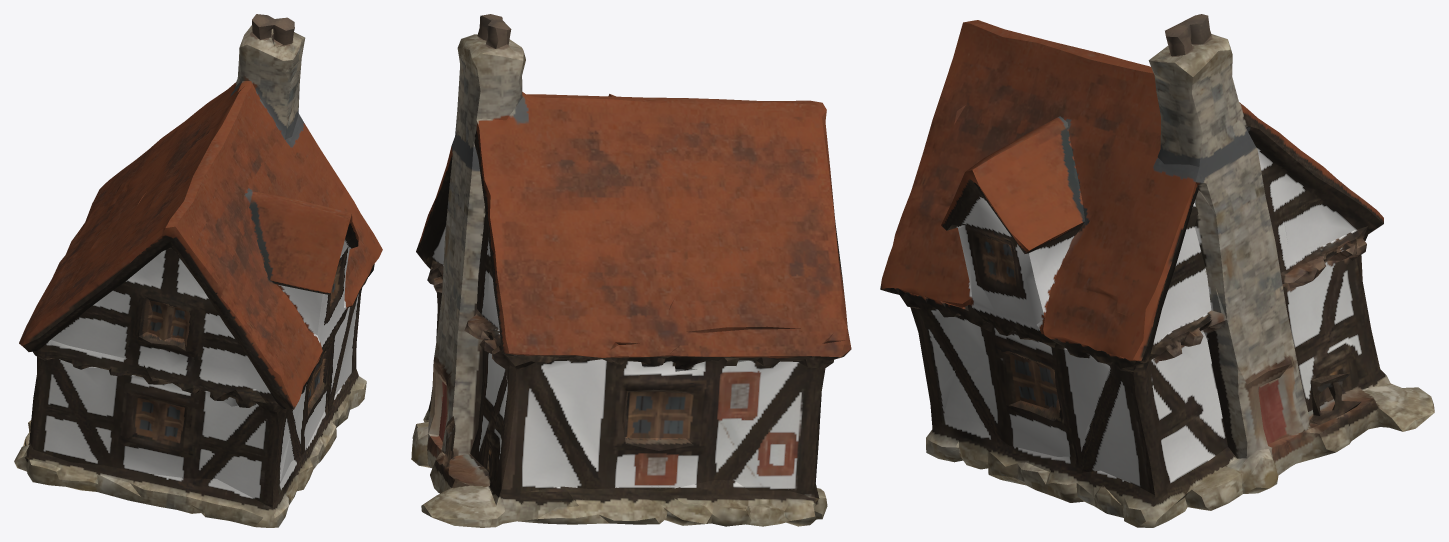
The model's file is house.glb.
3 renders of one model, left to right at view 1: azimuth 30°, elevation 25°; view 2: azimuth 150°, elevation 25°; view 3: azimuth 270°, elevation 25°, orthographic. The views are drawn at different scales.
Bounding box in the file's own units: 0.8225 × 0.8721 × 0.8858.
Materials: 1 (1 with a texture image).
